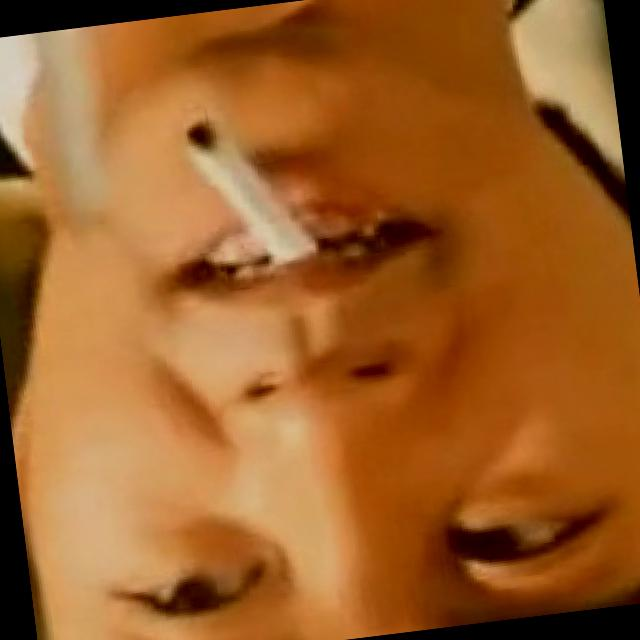cigarette: (156, 96, 344, 297)
